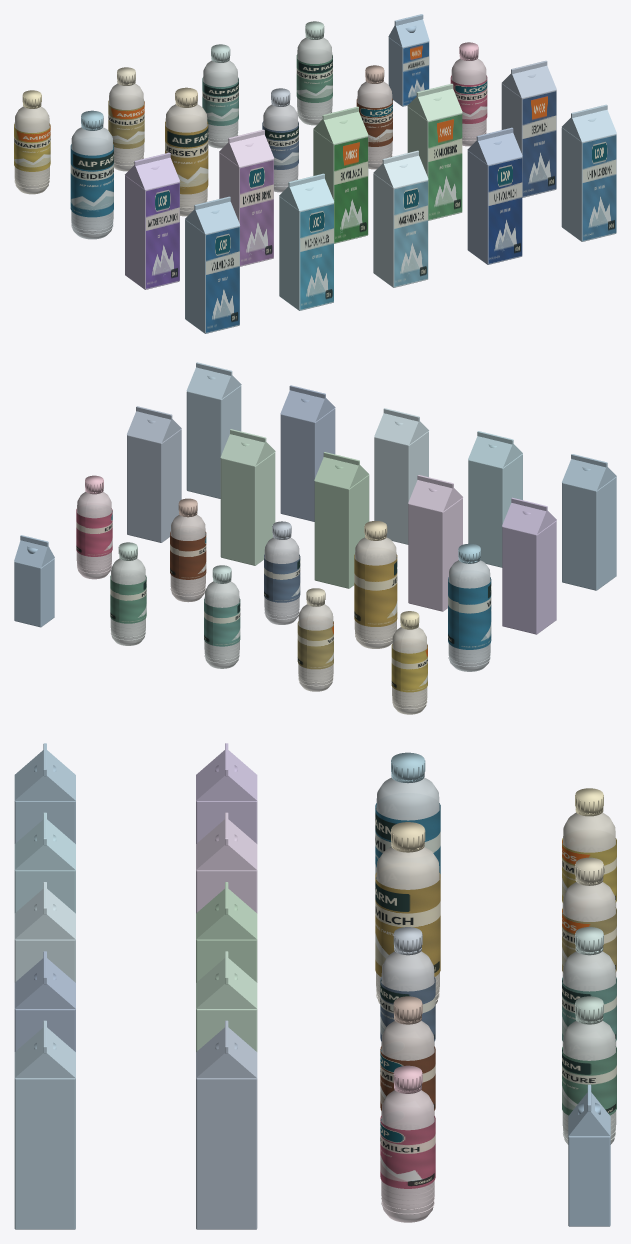
Rendered from Batch_01_Milk_Cream_Drinks_20_Distinct_Products.glb.
3 views of the same model, one above another, from view 1: azimuth 30°, elevation 25°; view 2: azimuth 150°, elevation 25°; view 3: azimuth 270°, elevation 25° (orthographic). The views are drawn at different scales.
Parts seen in each view (by area): view 1: UV-printed front label loop_uht_vollmilch, UV-printed front label amigos_bio_milchdrink, UV-printed front label amigos_bergmilch, UV-printed front label loop_uht_milchdrink, UV-printed front label loop_vollmilch_3_5, UV-printed front label loop_milchdrink_1_5, UV-printed front label loop_laktosefrei_vollmilch, UV-printed front label amigos_bio_vollmilch, UV-printed front label loop_magermilch_0_1, UV-printed front label loop_laktosefrei_drink, 360-degree printed shrink sleeve, Laminated paperboard main liquid carton.002 (+39 smaller); view 2: Laminated paperboard main liquid carton.005, Laminated paperboard main liquid carton, Laminated paperboard main liquid carton.008, Laminated paperboard main liquid carton.009, Laminated paperboard main liquid carton.007, Laminated paperboard main liquid carton.006, Laminated paperboard main liquid carton.004, Laminated paperboard main liquid carton.003, Laminated paperboard main liquid carton.001, Laminated paperboard main liquid carton.002, 360-degree printed shrink sleeve.001, 360-degree printed shrink sleeve (+28 smaller); view 3: Laminated paperboard main liquid carton.004, Laminated paperboard main liquid carton.009, 360-degree printed shrink sleeve.001, Laminated paperboard main liquid carton.010, Blow moulded bottle body.004, 360-degree printed shrink sleeve.004, 360-degree printed shrink sleeve.008, Blow moulded bottle body.001, Folded inward gable top.006, Folded inward gable top.001, Folded inward gable top.004, Folded inward gable top.009 (+37 smaller).
Part boxes in pixels (left/top/right/bottom): UV-printed front label loop_uht_vollmilch: left=488, top=158, right=522, bottom=263; UV-printed front label amigos_bio_milchdrink: left=428, top=114, right=462, bottom=219; UV-printed front label amigos_bergmilch: left=522, top=91, right=556, bottom=196; UV-printed front label loop_uht_milchdrink: left=582, top=135, right=616, bottom=240; UV-printed front label loop_vollmilch_3_5: left=206, top=227, right=239, bottom=332; UV-printed front label loop_milchdrink_1_5: left=300, top=204, right=333, bottom=309; UV-printed front label loop_laktosefrei_vollmilch: left=146, top=183, right=179, bottom=288; UV-printed front label amigos_bio_vollmilch: left=334, top=137, right=367, bottom=242; UV-printed front label loop_magermilch_0_1: left=394, top=181, right=427, bottom=286; UV-printed front label loop_laktosefrei_drink: left=240, top=160, right=273, bottom=265; 360-degree printed shrink sleeve: left=70, top=144, right=113, bottom=217; Laminated paperboard main liquid carton.002: left=373, top=173, right=428, bottom=287; Laminated paperboard main liquid carton.005: left=502, top=520, right=556, bottom=634; Laminated paperboard main liquid carton: left=562, top=477, right=616, bottom=590; Laminated paperboard main liquid carton.008: left=220, top=452, right=275, bottom=565; Laminated paperboard main liquid carton.009: left=127, top=429, right=181, bottom=542; Laminated paperboard main liquid carton.007: left=314, top=475, right=369, bottom=588; Laminated paperboard main liquid carton.006: left=408, top=497, right=462, bottom=611; Laminated paperboard main liquid carton.004: left=186, top=385, right=241, bottom=498; Laminated paperboard main liquid carton.003: left=280, top=408, right=335, bottom=521; Laminated paperboard main liquid carton.001: left=468, top=454, right=522, bottom=567; Laminated paperboard main liquid carton.002: left=374, top=431, right=428, bottom=544; 360-degree printed shrink sleeve.001: left=354, top=554, right=397, bottom=626; 360-degree printed shrink sleeve: left=448, top=577, right=491, bottom=649; Laminated paperboard main liquid carton.004: left=14, top=1078, right=75, bottom=1229; Laminated paperboard main liquid carton.009: left=196, top=1078, right=257, bottom=1229; 360-degree printed shrink sleeve.001: left=375, top=872, right=440, bottom=976; Laminated paperboard main liquid carton.010: left=568, top=1136, right=610, bottom=1226; Blow moulded bottle body.004: left=381, top=1090, right=434, bottom=1222; 360-degree printed shrink sleeve.004: left=380, top=1115, right=435, bottom=1188; 360-degree printed shrink sleeve.008: left=562, top=1046, right=616, bottom=1115; Blow moulded bottle body.001: left=376, top=847, right=439, bottom=1004; Folded inward gable top.006: left=196, top=819, right=257, bottom=870; Folded inward gable top.001: left=14, top=819, right=75, bottom=870; Folded inward gable top.004: left=14, top=1027, right=75, bottom=1078; Folded inward gable top.009: left=196, top=1027, right=257, bottom=1078.
Size of the model in its own units: 0.8339 by 0.2345 by 0.698.
Materials: 80 (20 with a texture image).
